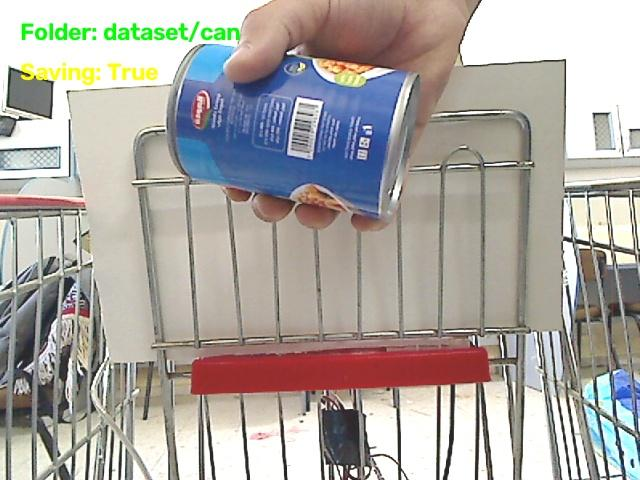can: (167, 44, 418, 219)
